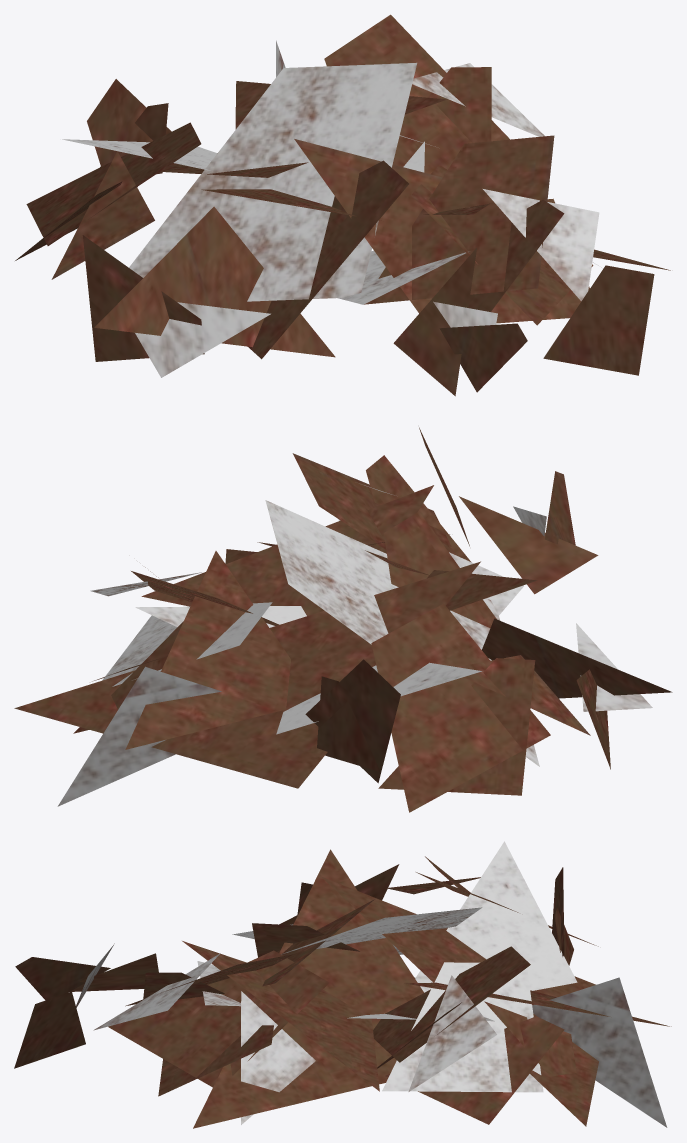
The model's file is Trash1.fbx.
The picture shows the model from 3 angles, top to bottom: view 1: azimuth 30°, elevation 25°; view 2: azimuth 150°, elevation 25°; view 3: azimuth 270°, elevation 25°; orthographic projection. The views are drawn at different scales.
Parts seen in each view (by area): view 1: Trash; view 2: Trash; view 3: Trash.
Part boxes in pixels (left/top/right/bottom): Trash: left=15, top=14, right=670, bottom=396; Trash: left=14, top=427, right=672, bottom=812; Trash: left=14, top=841, right=671, bottom=1128.
Size of the model in its own units: 646128 by 520902 by 209008.
2 materials, 2 textured.
